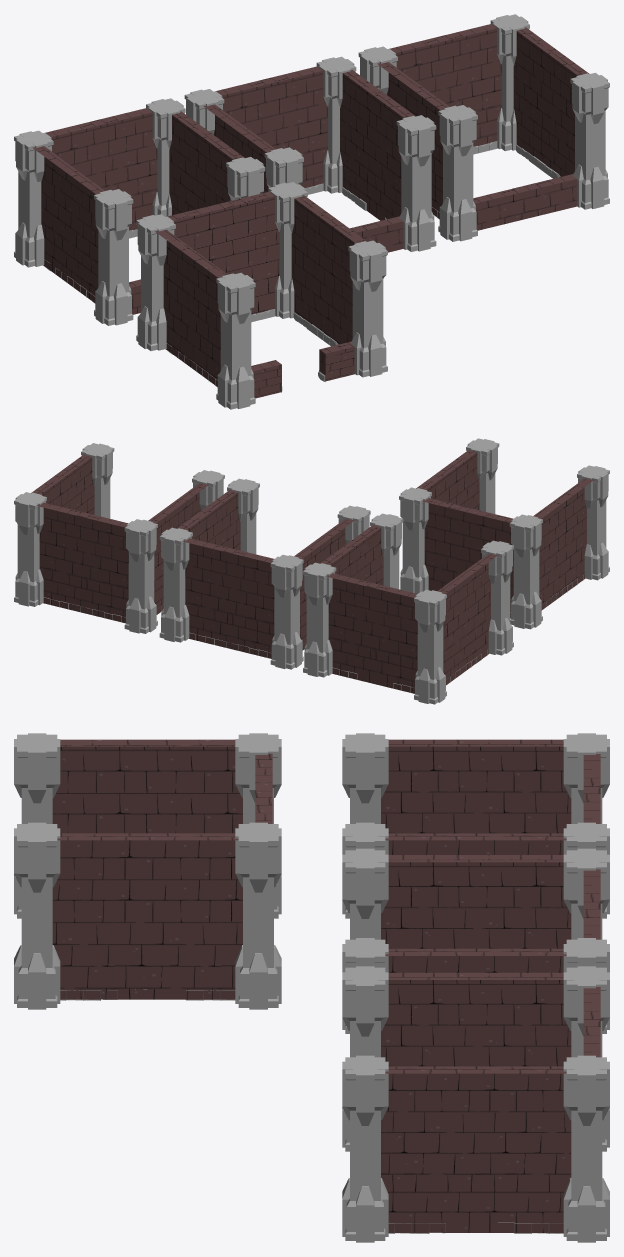
Rendered from MuroOne_Door.fbx.
3 renders of one model, top to bottom at view 1: azimuth 30°, elevation 25°; view 2: azimuth 150°, elevation 25°; view 3: azimuth 270°, elevation 25°, orthographic. The views are drawn at different scales.
Visible parts, largest first — view 1: On_door, On_door4, On_door2, On_door3; view 2: On_door2, On_door, On_door4, On_door3; view 3: On_door4, On_door, On_door3, On_door2.
Boxes of the visible parts, left/top/right/bottom form: On_door: left=136, top=182, right=387, bottom=409; On_door4: left=358, top=14, right=609, bottom=241; On_door2: left=14, top=98, right=265, bottom=325; On_door3: left=184, top=56, right=436, bottom=252; On_door2: left=303, top=513, right=513, bottom=704; On_door: left=399, top=438, right=609, bottom=629; On_door4: left=14, top=443, right=224, bottom=633; On_door3: left=159, top=478, right=370, bottom=669; On_door4: left=342, top=966, right=609, bottom=1242; On_door: left=14, top=733, right=281, bottom=1009; On_door3: left=342, top=848, right=609, bottom=1033; On_door2: left=342, top=733, right=609, bottom=918.
Size of the model in its own units: 4756 by 1117 by 3502.
Materials: 2 (1 with a texture image).
